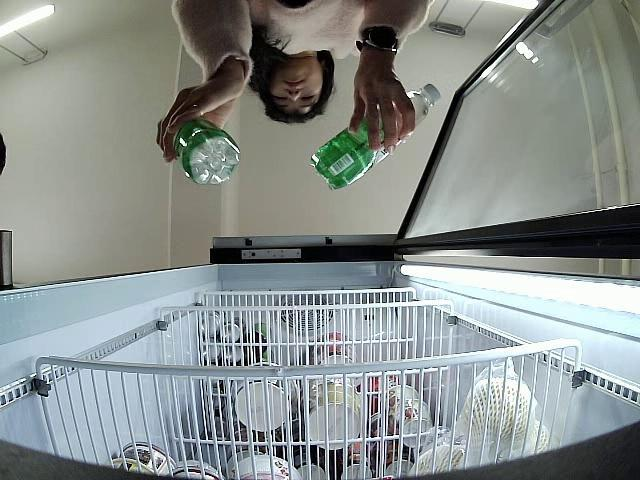18_trevi: (310, 82, 440, 191), (170, 119, 239, 186)
